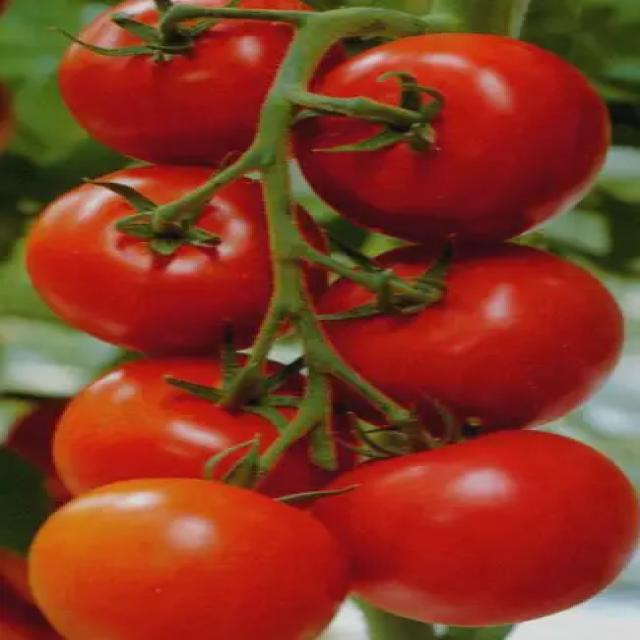tomatoes: (27, 0, 634, 637)
